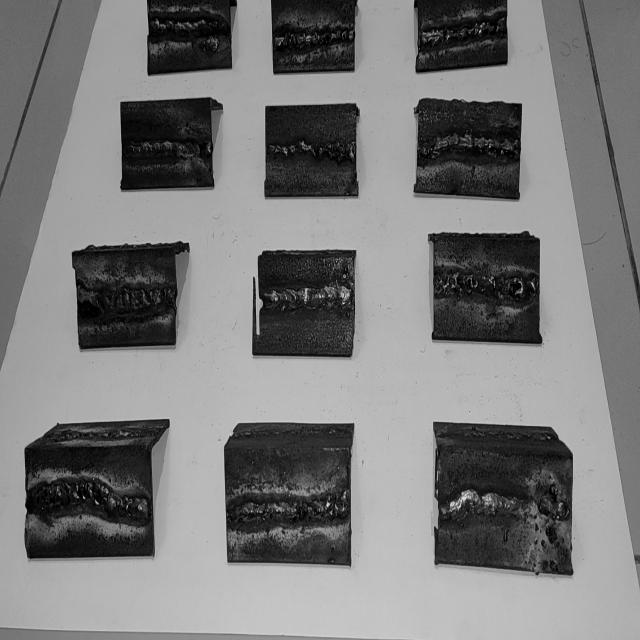Bad Weld: (151, 19, 225, 36)
Defect: (532, 482, 569, 570), (198, 13, 221, 56)
Good Weld: (27, 482, 150, 519), (228, 496, 349, 526), (420, 17, 506, 48), (420, 134, 520, 160), (441, 495, 531, 522), (268, 283, 352, 308), (100, 288, 176, 308), (273, 30, 355, 48), (268, 141, 356, 156), (122, 142, 210, 154)
